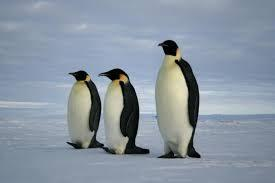emporer: (145, 30, 213, 167), (95, 61, 155, 162), (57, 64, 112, 161)
